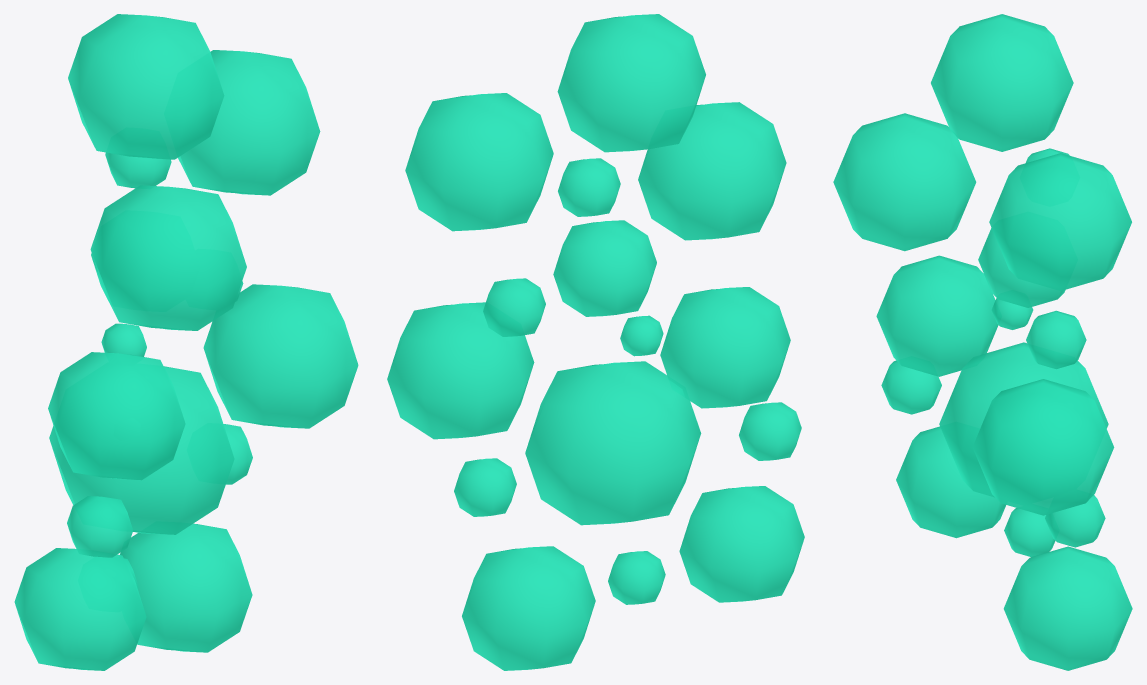
Rendered from Mob 1 Corruption.fbx.
The picture shows the model from 3 angles, left to right: view 1: azimuth 30°, elevation 25°; view 2: azimuth 150°, elevation 25°; view 3: azimuth 270°, elevation 25°; orthographic projection. The views are drawn at different scales.
Parts seen in each view (by area): view 1: Corruption; view 2: Corruption; view 3: Corruption.
Boxes of the visible parts, x1=… form: Corruption: x1=14, y1=14, x2=358, y2=670; Corruption: x1=387, y1=14, x2=804, y2=670; Corruption: x1=833, y1=14, x2=1132, y2=670.
Bounding box in the file's own units: 1968 × 3422 × 1505.
